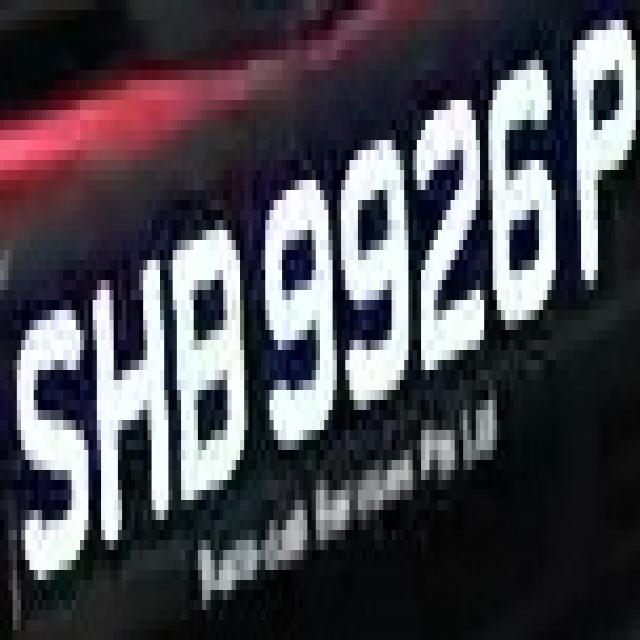2: (404, 80, 493, 390)
6: (476, 40, 560, 350)
9: (257, 160, 341, 480), (324, 120, 413, 410)
B: (164, 200, 253, 540)
H: (89, 240, 172, 570)
P: (560, 0, 640, 290)
S: (12, 280, 92, 610)
